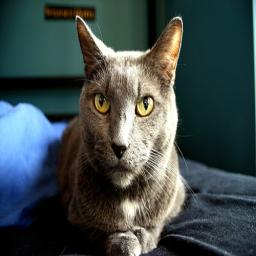catnose: (109, 141, 128, 161)
